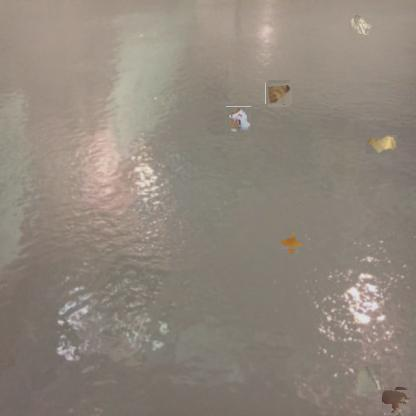dirty: (354, 363, 382, 397), (225, 107, 252, 133), (365, 134, 397, 154), (267, 81, 291, 106), (348, 14, 372, 38)
liquid: (383, 388, 409, 414), (282, 233, 300, 252)
